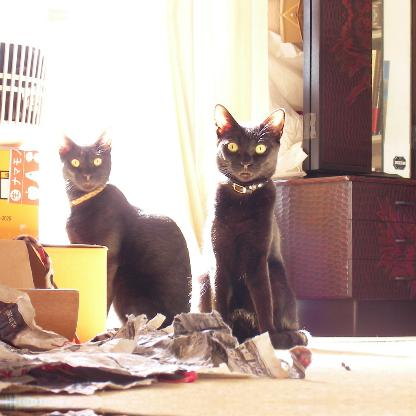Cat: (192, 97, 306, 355), (62, 118, 194, 328)
